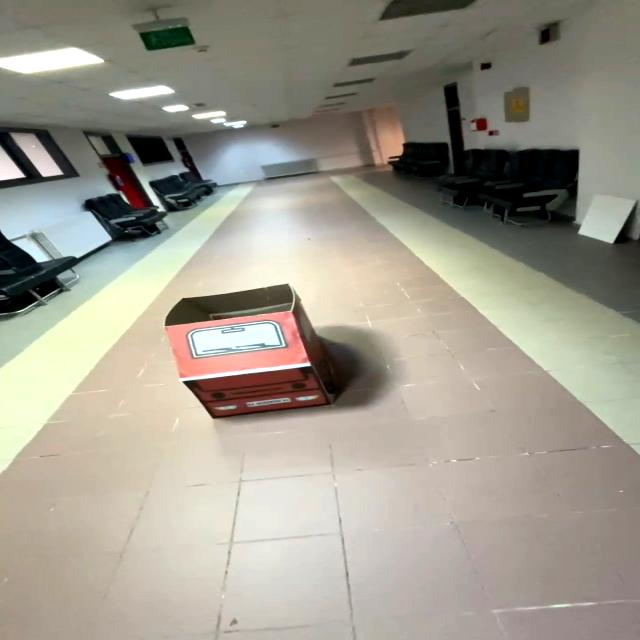red_car: (132, 277, 367, 431)
